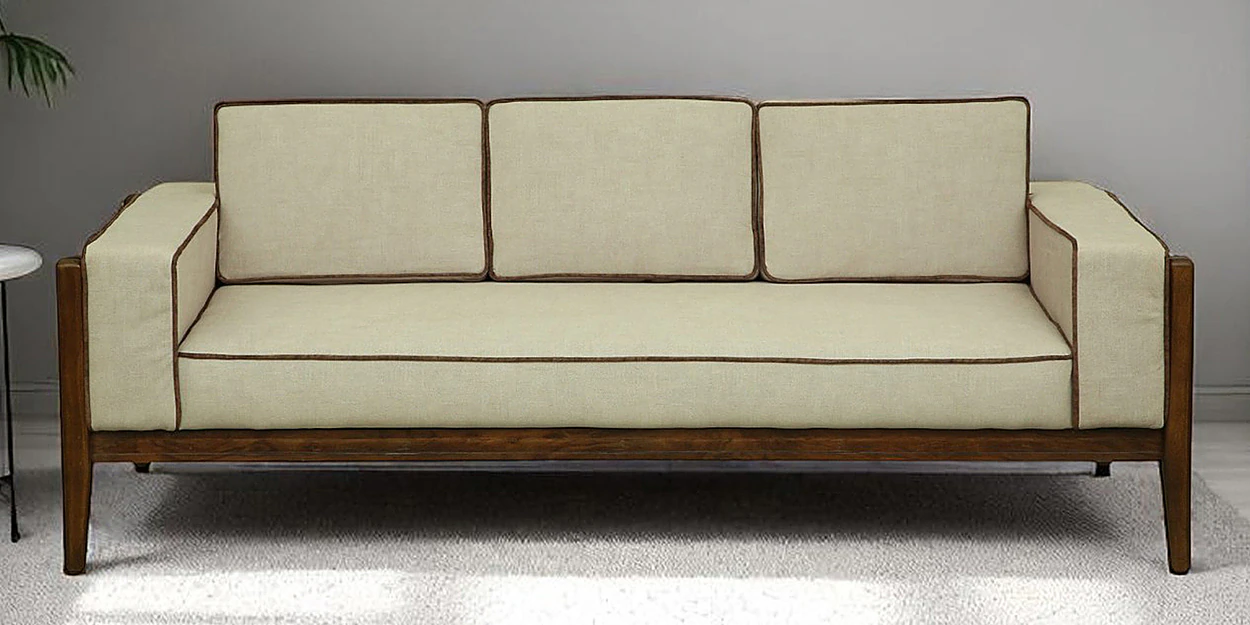3seatersofa: (57, 93, 1192, 573)
backrest: (119, 95, 1027, 283)
base: (82, 428, 1164, 463)
leftarmrest: (1029, 182, 1169, 427)
leg: (56, 257, 93, 574), (1159, 257, 1193, 574), (1094, 463, 1110, 476), (134, 462, 150, 472)
rightarmrest: (81, 183, 216, 430)
seat: (179, 282, 1070, 429)
